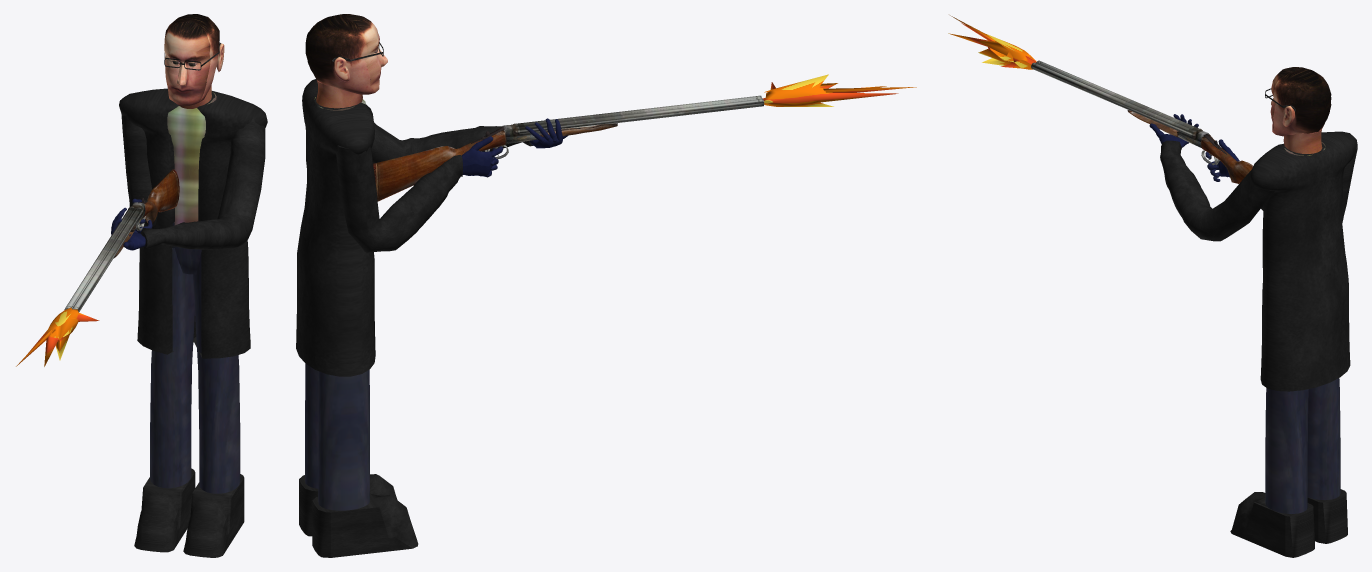
Rendered from Joe135fire.fbx.
3 renders of one model, left to right at view 1: azimuth 30°, elevation 25°; view 2: azimuth 150°, elevation 25°; view 3: azimuth 270°, elevation 25°, orthographic. The views are drawn at different scales.
Parts seen in each view (by area): view 1: joe_trenchcoat, joe_legs, larm, joe_face, joe_lshoetest, joe_rshoetest, dbshotgun, joe_shirt, rarm, shotgunflash; view 2: joe_trenchcoat, joe_legs, rarm, dbshotgun, joe_rshoetest, joe_face, larm, shotgunflash, joe_lshoetest, joe_neck; view 3: joe_trenchcoat, joe_legs, larm, joe_lshoetest, dbshotgun, joe_face, joe_rshoetest, shotgunflash, joe_neck.
Part boxes in pixels (x1,y1,x2,y2): joe_trenchcoat: (119,88,267,358); joe_legs: (150,222,240,493); larm: (140,117,265,249); joe_face: (164,14,219,105); joe_lshoetest: (183,474,244,557); joe_rshoetest: (134,468,195,552); dbshotgun: (64,169,179,312); joe_shirt: (167,92,216,225); rarm: (121,114,157,228); shotgunflash: (16,307,99,366); joe_trenchcoat: (296,79,375,376); joe_legs: (305,363,369,510); rarm: (336,145,462,252); dbshotgun: (373,95,764,201); joe_rshoetest: (312,493,418,557); joe_face: (305,14,381,94); larm: (371,122,533,163); shotgunflash: (762,74,916,106); joe_lshoetest: (299,474,397,536); joe_neck: (316,80,362,108); joe_trenchcoat: (1250,131,1357,391); joe_legs: (1265,378,1340,513); larm: (1160,140,1274,241); joe_lshoetest: (1230,492,1314,557); dbshotgun: (1031,60,1253,183); joe_face: (1270,67,1331,136); joe_rshoetest: (1307,489,1347,543); shotgunflash: (948,15,1036,69); joe_neck: (1283,128,1322,153).
Bounding box in the file's own units: 53.25 × 60.91 × 48.69.
Materials: 8 (8 with a texture image).
